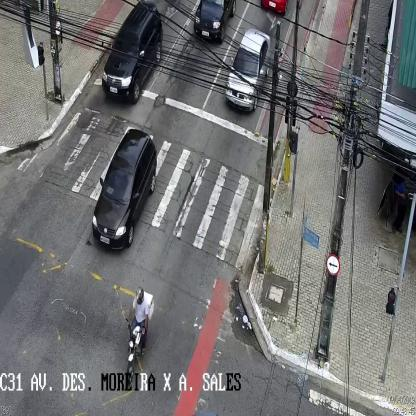car: (91, 128, 157, 251), (103, 2, 160, 99), (227, 31, 269, 112), (194, 0, 234, 46)
motorbike: (122, 288, 154, 382)
person: (394, 177, 410, 238)
